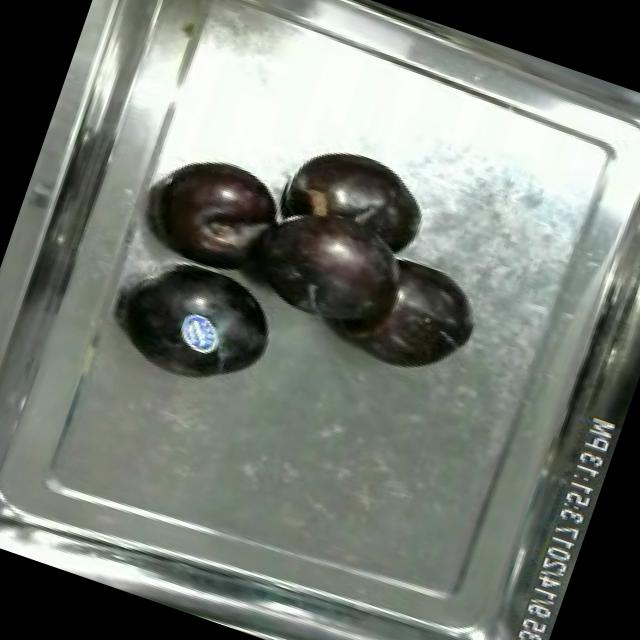Fruit: (107, 242, 295, 409), (142, 142, 296, 287), (280, 133, 440, 255), (356, 251, 492, 390)
